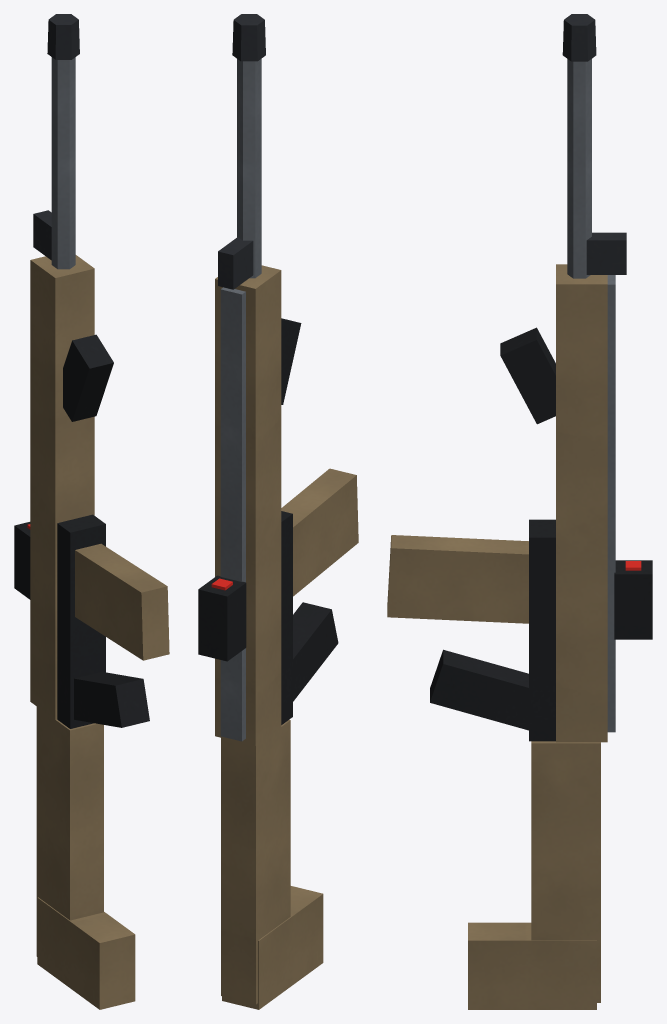
Rendered from weapon_scar.glb.
3 renders of one model, left to right at view 1: azimuth 30°, elevation 25°; view 2: azimuth 150°, elevation 25°; view 3: azimuth 270°, elevation 25°, orthographic. The views are drawn at different scales.
Parts seen in each view (by area): view 1: Weapon_SCAR; view 2: Weapon_SCAR; view 3: Weapon_SCAR.
Boxes of the visible parts, x1,y1,x2,y2 form: Weapon_SCAR: [14, 14, 169, 1009]; Weapon_SCAR: [198, 14, 358, 1009]; Weapon_SCAR: [387, 14, 652, 1009].
Bounding box in the file's own units: 0.042 × 0.964 × 0.2361.
5 materials, 4 textured.
